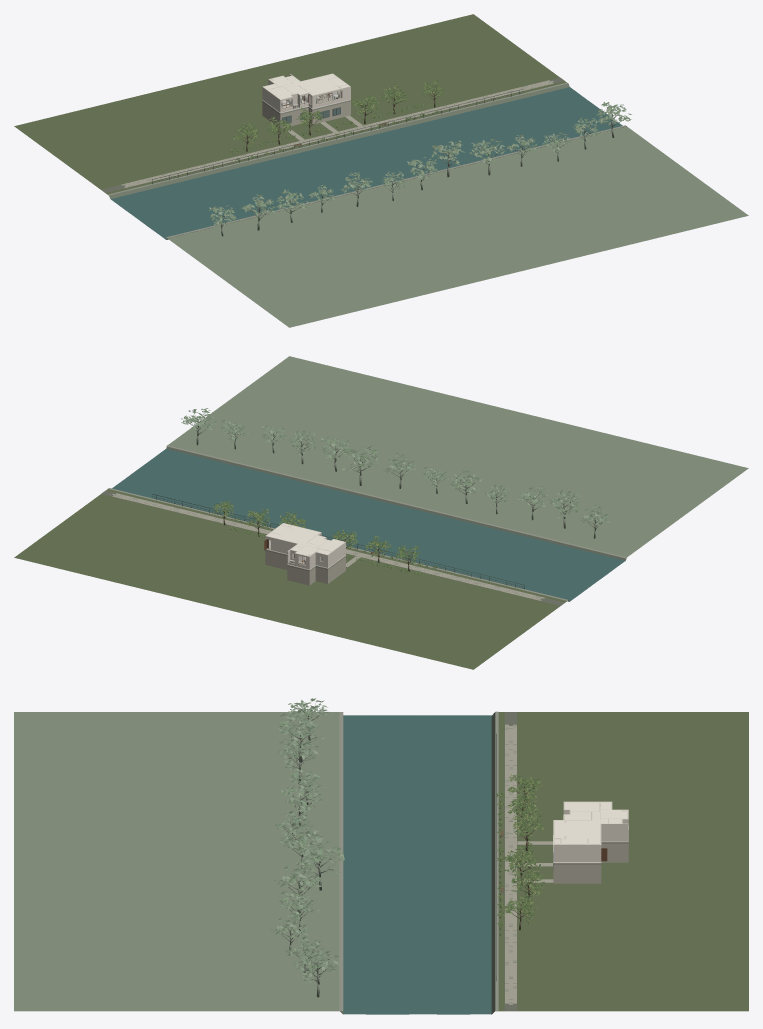
Rendered from home.glb.
The picture shows the model from 3 angles, top to bottom: view 1: azimuth 30°, elevation 25°; view 2: azimuth 150°, elevation 25°; view 3: azimuth 270°, elevation 25°; orthographic projection. The views are drawn at different scales.
Visible parts, largest first — view 1: 外景｜远岸绿地, 外景｜住宅侧花园地形, 外景｜平行住宅长边的22米河面, 外景｜缓坡护岸, 外景｜二层住宅下部简化体量, 外景｜近岸细金属防护栏, 外景｜近岸石压顶, 外景｜远岸石压顶; view 2: 外景｜远岸绿地, 外景｜住宅侧花园地形, 外景｜平行住宅长边的22米河面, 外景｜缓坡护岸.001, 外景｜二层住宅下部简化体量, 外景｜远岸石压顶, 外景｜近岸石压顶, 外景｜近岸细金属防护栏, 外景｜远岸疏林07; view 3: 外景｜远岸绿地, 外景｜住宅侧花园地形, 外景｜平行住宅长边的22米河面, 外景｜缓坡护岸, 外景｜二层住宅下部简化体量, 外景｜远岸石压顶, 外景｜近岸石压顶, 外景｜远岸疏林07, 外墙｜东立面, 吊顶｜客餐厅, 外景｜远岸疏林12, 外景｜远岸疏林01 (+11 smaller).
Boxes of the visible parts, left/top/right/bottom form: 外景｜远岸绿地: left=167, top=126, right=748, bottom=327; 外景｜住宅侧花园地形: left=14, top=14, right=567, bottom=195; 外景｜平行住宅长边的22米河面: left=110, top=87, right=622, bottom=239; 外景｜缓坡护岸: left=109, top=83, right=569, bottom=198; 外景｜二层住宅下部简化体量: left=262, top=101, right=350, bottom=128; 外景｜近岸细金属防护栏: left=152, top=89, right=523, bottom=183; 外景｜近岸石压顶: left=108, top=82, right=568, bottom=195; 外景｜远岸石压顶: left=166, top=125, right=626, bottom=238; 外景｜远岸绿地: left=168, top=356, right=748, bottom=557; 外景｜住宅侧花园地形: left=14, top=489, right=566, bottom=669; 外景｜平行住宅长边的22米河面: left=112, top=449, right=624, bottom=601; 外景｜缓坡护岸.001: left=166, top=446, right=626, bottom=560; 外景｜二层住宅下部简化体量: left=265, top=551, right=345, bottom=585; 外景｜远岸石压顶: left=166, top=445, right=626, bottom=558; 外景｜近岸石压顶: left=108, top=488, right=567, bottom=600; 外景｜近岸细金属防护栏: left=152, top=494, right=524, bottom=589; 外景｜远岸疏林07: left=342, top=446, right=379, bottom=485; 外景｜远岸绿地: left=14, top=712, right=339, bottom=1011; 外景｜住宅侧花园地形: left=495, top=712, right=748, bottom=1011; 外景｜平行住宅长边的22米河面: left=343, top=715, right=491, bottom=1014; 外景｜缓坡护岸: left=491, top=712, right=495, bottom=1014; 外景｜二层住宅下部简化体量: left=553, top=843, right=628, bottom=883; 外景｜远岸石压顶: left=339, top=712, right=343, bottom=1010; 外景｜近岸石压顶: left=495, top=711, right=498, bottom=1010; 外景｜远岸疏林07: left=295, top=834, right=344, bottom=890; 外墙｜东立面: left=553, top=844, right=601, bottom=861; 吊顶｜客餐厅: left=554, top=820, right=599, bottom=838; 外景｜远岸疏林12: left=293, top=949, right=339, bottom=997; 外景｜远岸疏林01: left=278, top=714, right=325, bottom=762.
Size of the model in its own units: 105 by 8.42 by 109.
Materials: 56 (10 with a texture image).
